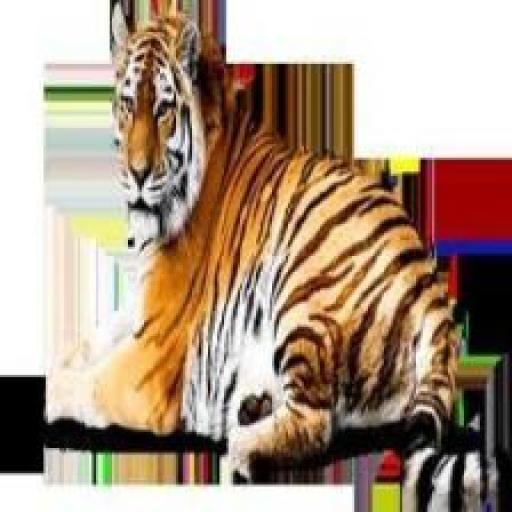Tiger: (53, 9, 480, 440)
